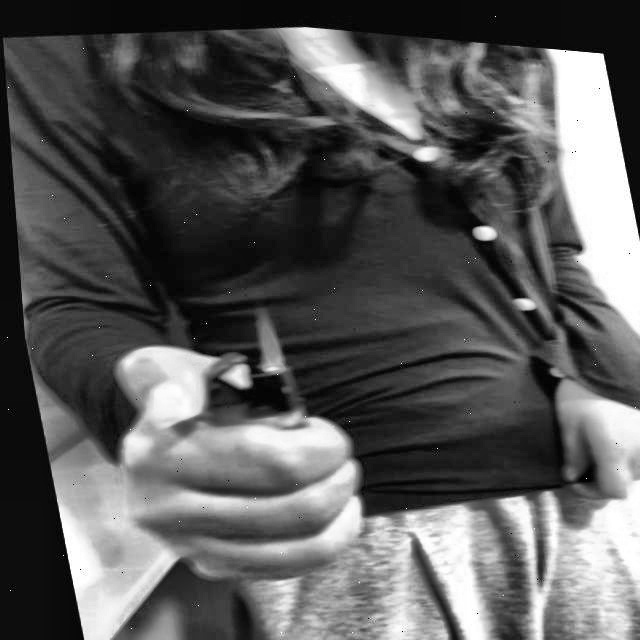Fire: (248, 302, 281, 361)
